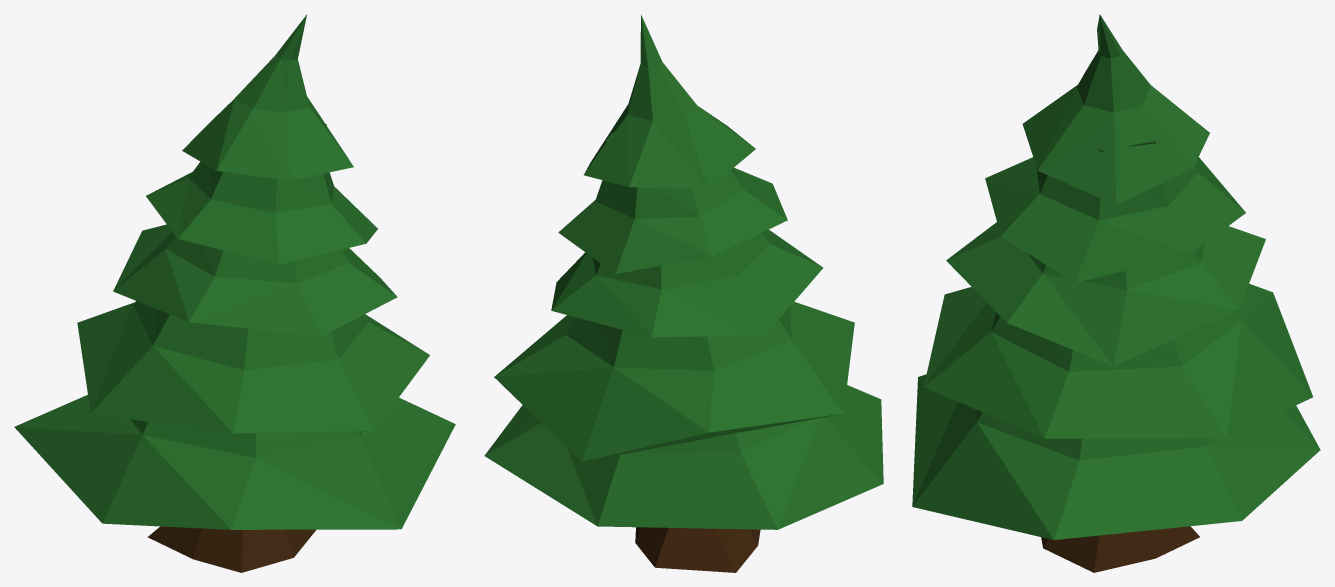
File: fir_3.glb
3 views of the same model, side by side, from view 1: azimuth 30°, elevation 25°; view 2: azimuth 150°, elevation 25°; view 3: azimuth 270°, elevation 25° (orthographic). The views are drawn at different scales.
Visible parts, largest first — view 1: Cylinder.007; view 2: Cylinder.007; view 3: Cylinder.007.
Boxes of the visible parts, <box> form: Cylinder.007: <box>14,15,455,572</box>; Cylinder.007: <box>484,14,883,572</box>; Cylinder.007: <box>912,14,1320,572</box>.
Bounding box in the file's own units: 4.6 × 6.4 × 4.27.
